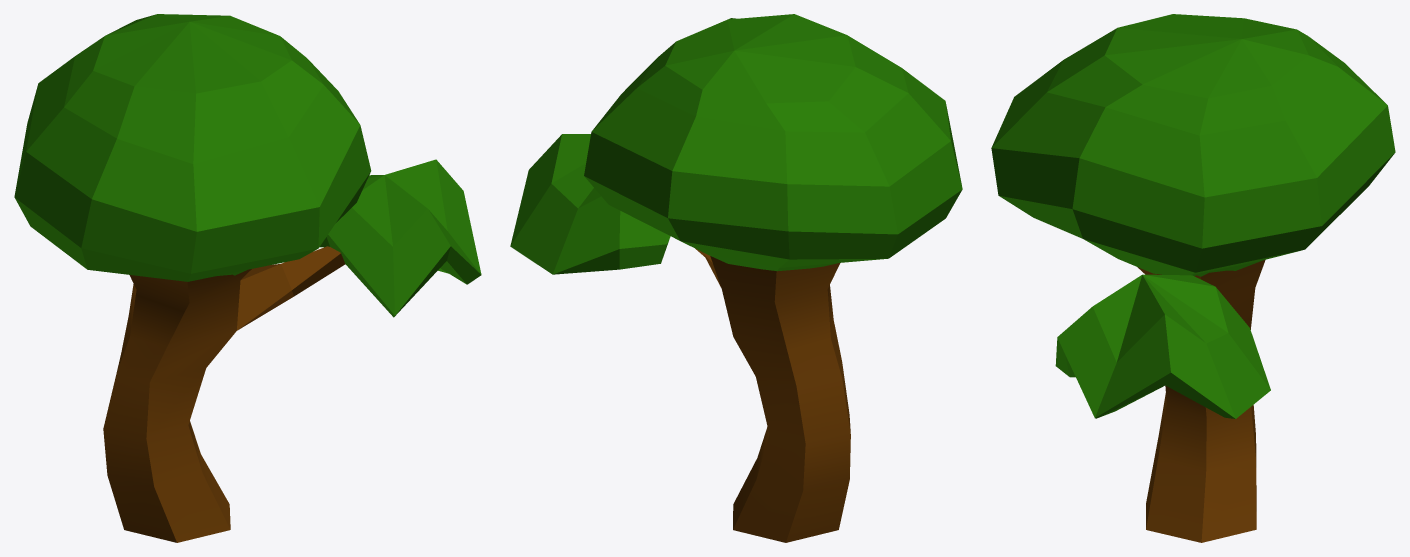
The model's file is droopyTree.fbx.
The picture shows the model from 3 angles, left to right: view 1: azimuth 30°, elevation 25°; view 2: azimuth 150°, elevation 25°; view 3: azimuth 270°, elevation 25°; orthographic projection. The views are drawn at different scales.
Parts seen in each view (by area): view 1: droopyTree; view 2: droopyTree; view 3: droopyTree.
Boxes of the visible parts, x1,y1,x2,y2 form: droopyTree: (14,14,481,542); droopyTree: (510,14,962,542); droopyTree: (991,14,1395,542).
Size of the model in its own units: 7.04 by 7.78 by 5.78.
